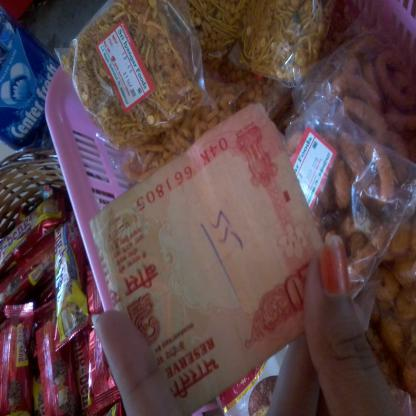Old20Front: (102, 116, 317, 403)
